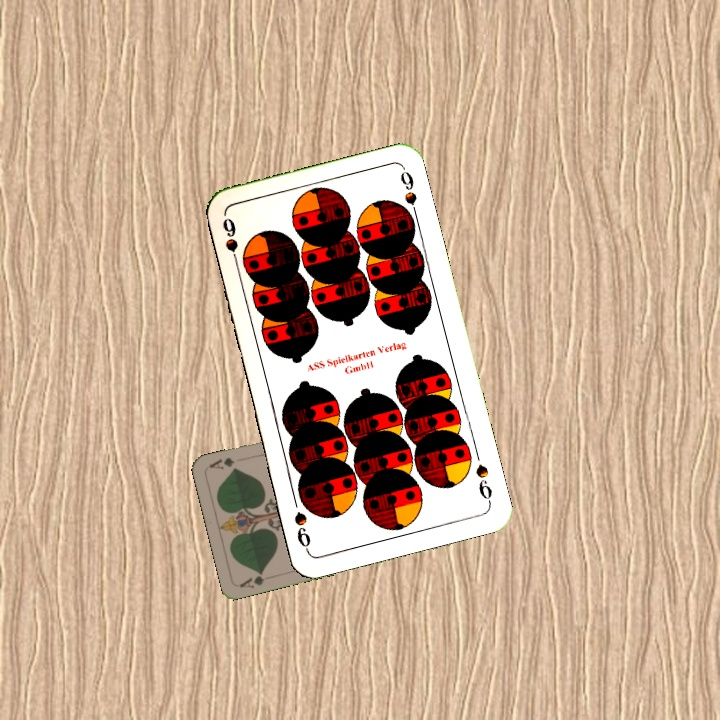GA: (235, 567, 267, 591)
S9: (218, 213, 242, 272), (471, 460, 495, 506)
